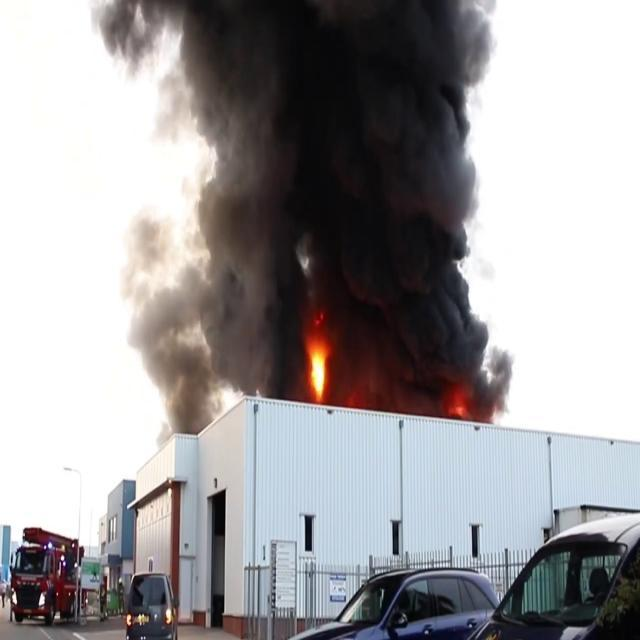Fire: (303, 318, 335, 404)
Smoke: (99, 0, 519, 423)
